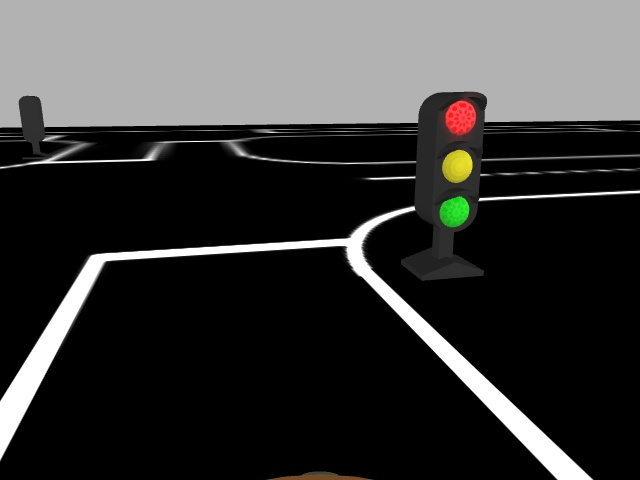red_light: (423, 92, 487, 234)
